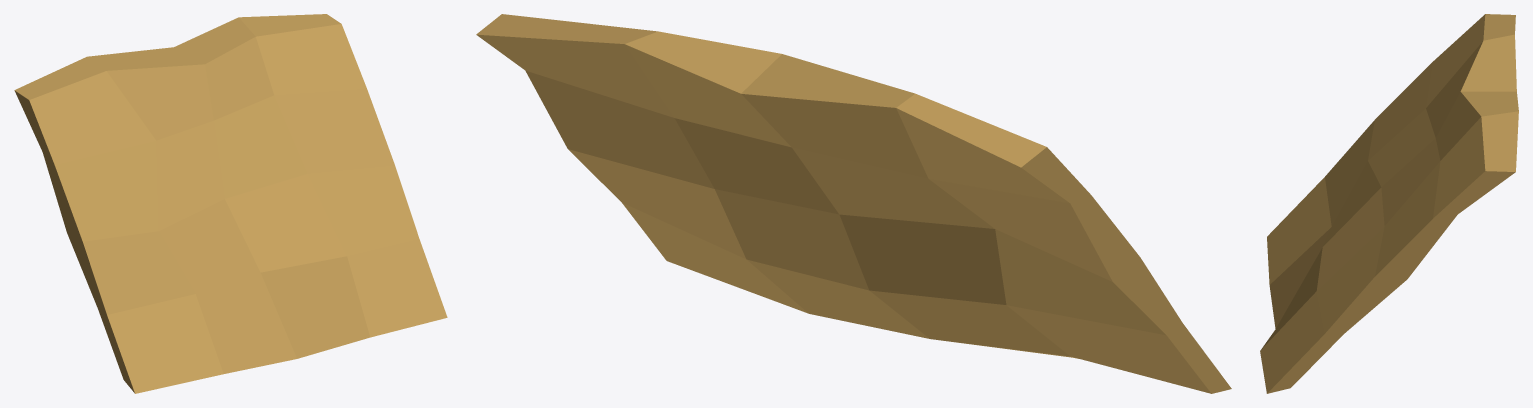
The model's file is enchantedforest_roof_straw_1.fbx.
3 views of the same model, side by side, from view 1: azimuth 30°, elevation 25°; view 2: azimuth 150°, elevation 25°; view 3: azimuth 270°, elevation 25° (orthographic). The views are drawn at different scales.
Visible parts, largest first — view 1: Cube.007; view 2: Cube.007; view 3: Cube.007.
Part boxes in pixels (box(x1,y1,x2,y2)): Cube.007: box(14, 14, 447, 393); Cube.007: box(476, 14, 1231, 393); Cube.007: box(1260, 14, 1518, 393).
Size of the model in its own units: 3 by 2.21 by 2.09.
